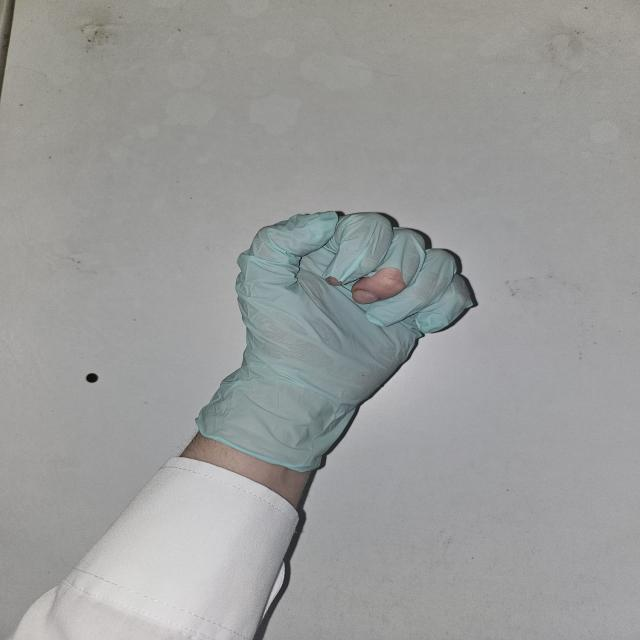gloves_damaged: (191, 208, 472, 466)
